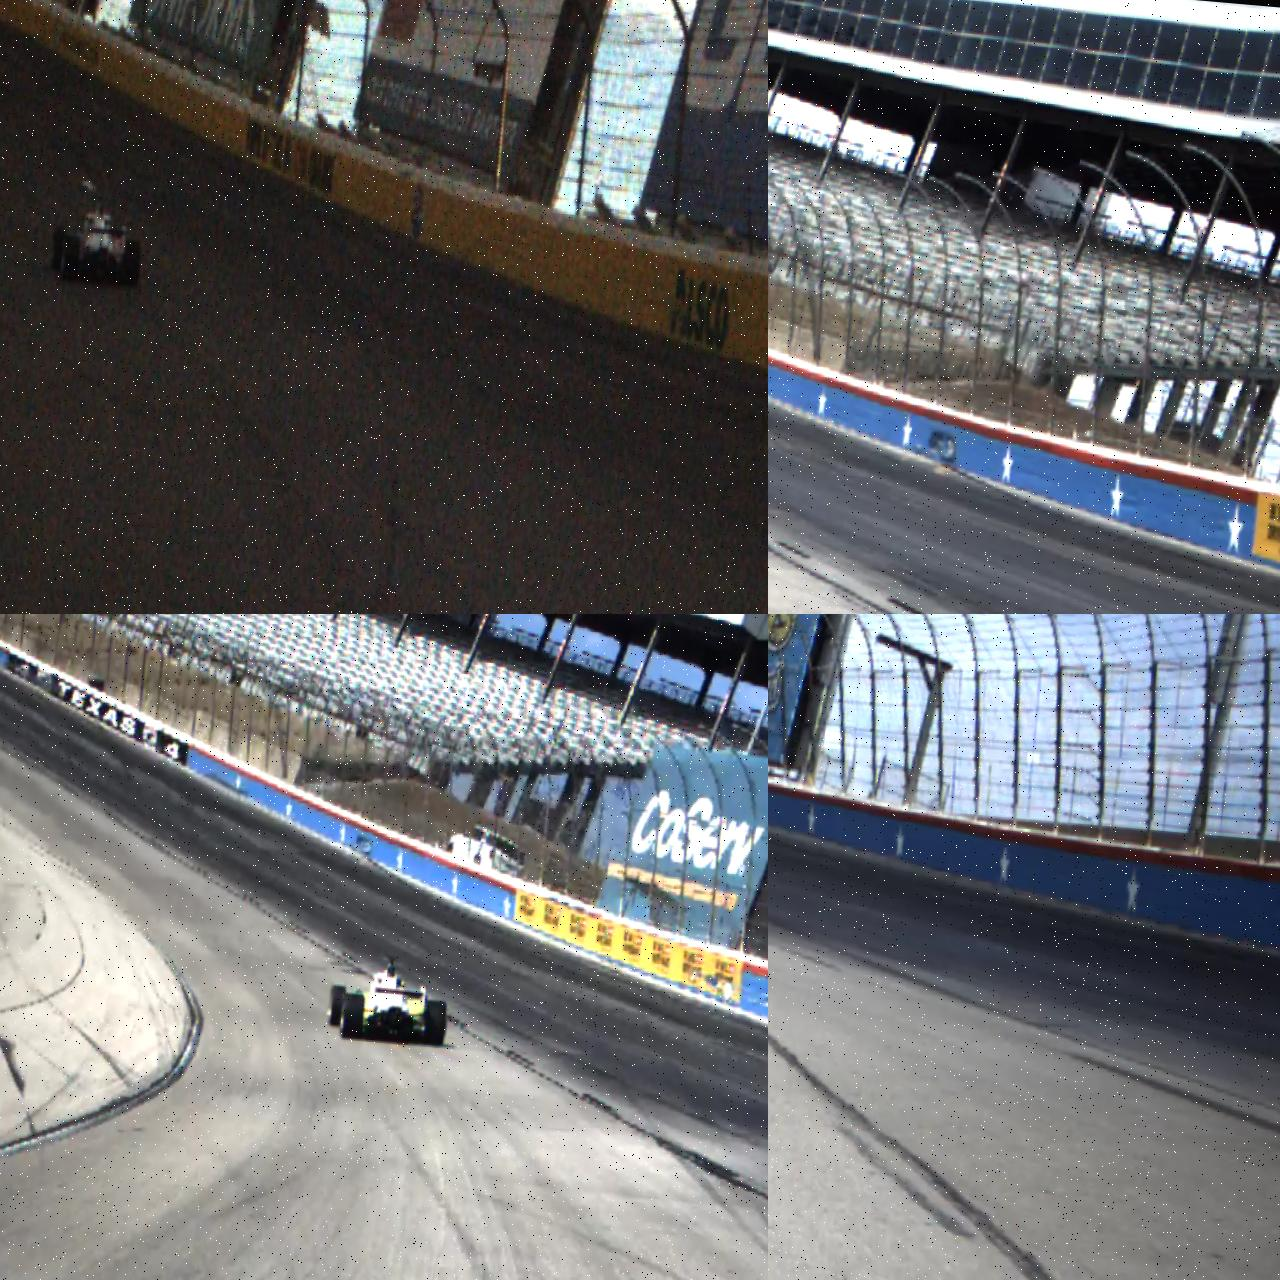AV: (325, 951, 452, 1048), (48, 190, 148, 288)
Wheel: (423, 1000, 449, 1048), (340, 993, 365, 1040), (122, 238, 144, 287), (60, 234, 82, 282), (328, 983, 347, 1029), (49, 227, 68, 272)
